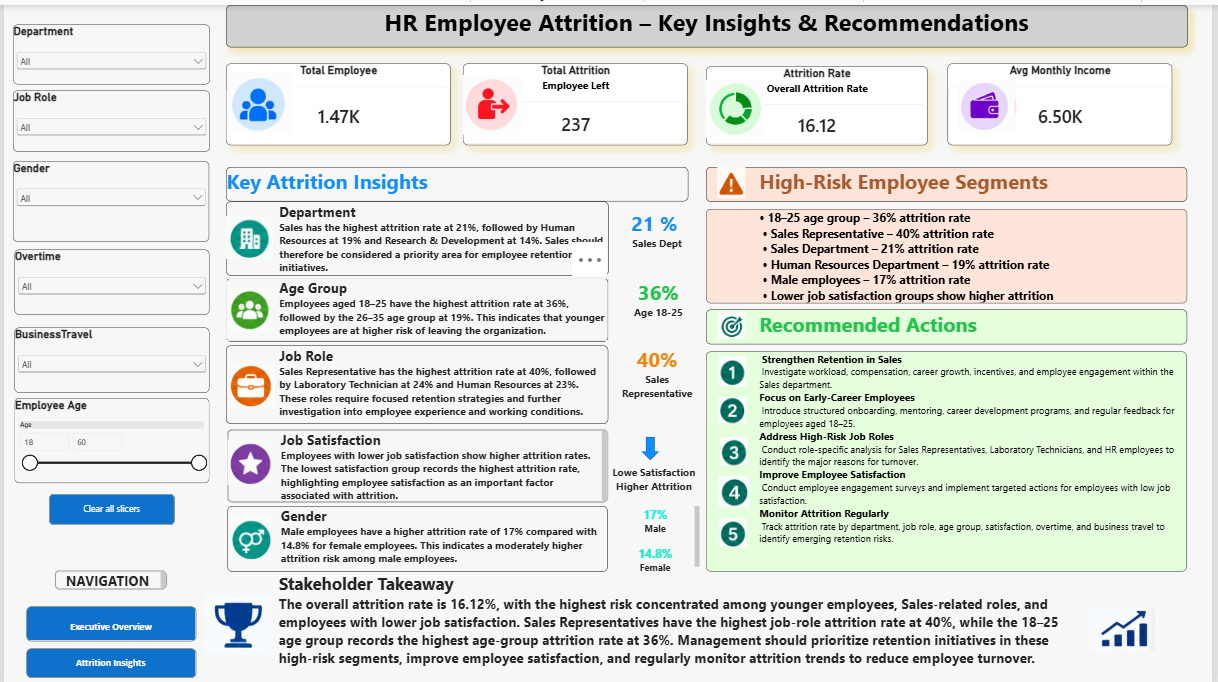

The page's visual inventory and layout, read from the dashboard file:
{"tool":"powerbi","page":{"name":"Key Insights & Recommendations","canvas":[1920,1080],"ordinal":3},"visuals":[{"type":"textbox","box":[352.5,0,1530,67.5],"z":0},{"type":"cardVisual","title":"Total Employee","fields":{"Data":["hr_analytics hr_attrition.Total_Employee"]},"box":[352.5,92.5,357.5,130],"z":1000},{"type":"cardVisual","title":"Total Attrition","fields":{"Data":["hr_analytics hr_attrition.Total Attrition"]},"box":[730,92.5,357.5,130],"z":2000},{"type":"cardVisual","title":"Attrition Rate ","fields":{"Data":["hr_analytics hr_attrition.Attrition_rate"]},"box":[1117.5,97.5,352.5,125],"z":3000},{"type":"cardVisual","title":"Avg Monthly Income","fields":{"Data":["hr_analytics hr_attrition.avg_onthly_income"]},"box":[1500,92.5,357.5,130],"z":4000},{"type":"slicer","title":"Department","fields":{"Values":["hr_analytics hr_attrition.Department"]},"box":[14,31,313,95],"z":5000},{"type":"slicer","title":"Job Role","fields":{"Values":["hr_analytics hr_attrition.JobRole"]},"box":[14,137,313,97],"z":6000},{"type":"slicer","title":"Gender","fields":{"Values":["hr_analytics hr_attrition.Gender"]},"box":[15,247,312.2,128.9],"z":7000},{"type":"slicer","title":"Overtime","fields":{"Values":["hr_analytics hr_attrition.OverTime"]},"box":[17,390,310,104],"z":8000},{"type":"slicer","title":"BusinessTravel","fields":{"Values":["hr_analytics hr_attrition.BusinessTravel"]},"box":[17,513,310,104],"z":9000},{"type":"slicer","title":"Employee Age","fields":{"Values":["hr_analytics hr_attrition.Age"]},"box":[17,626,310,135],"z":10000},{"type":"actionButton","box":[71.7,777.5,200,49.2],"z":11000},{"type":"image","box":[352.5,107.5,107.4,97.8],"z":12000},{"type":"image","box":[730,99.2,93.1,116.9],"z":13000},{"type":"image","box":[1117.5,110,92.5,110],"z":14000},{"type":"image","box":[1517.5,117.5,92.5,87.5],"z":15000},{"type":"textbox","box":[352.5,902.5,1352.5,177.5],"z":16000},{"type":"textbox","box":[352.2,257.8,735.6,54.4],"z":17000},{"type":"textbox","box":[352.2,312.2,608.9,117.8],"z":18000},{"type":"textbox","box":[353.3,434.4,607.8,101.1],"z":19000},{"type":"textbox","box":[352.2,541.1,607.8,124.4],"z":20000},{"type":"textbox","box":[355.6,674.4,604.4,115.6],"z":21000},{"type":"textbox","box":[355.6,797.8,604.4,104.4],"z":22000},{"type":"textbox","box":[1117.5,257.5,765,55],"z":23000},{"type":"textbox","box":[1117.5,325,765,150],"z":24000},{"type":"textbox","box":[1117.5,485,765,55],"z":25000},{"type":"textbox","box":[1117.8,552.2,764.4,350],"z":26000},{"type":"image","box":[352.5,325,75,90],"z":27000},{"type":"image","box":[355,445,70,77.5],"z":28000},{"type":"image","box":[355,557.5,75,92.5],"z":29000},{"type":"image","box":[355,677.5,70,100],"z":30000},{"type":"image","box":[357.5,800,70,100],"z":31000},{"type":"image","box":[320,920,105,127.5],"z":32000},{"type":"image","box":[1725,937.5,105,110],"z":33000},{"type":"image","box":[1127.5,257.5,56.7,50],"z":34000},{"type":"image","box":[1131.2,557.5,56.2,48.8],"z":35000},{"type":"image","box":[1131.2,623.8,56.2,42.5],"z":36000},{"type":"image","box":[1127.5,687.5,65,45],"z":37000},{"type":"image","box":[1135,750,51.2,50],"z":38000},{"type":"image","box":[1133.8,815,52.5,47.5],"z":39000},{"type":"image","box":[1135.6,483.3,43.3,50],"z":40000},{"type":"textbox","box":[970,325.6,135.6,104.4],"z":41000},{"type":"textbox","box":[975.6,434.4,130,98.9],"z":42000},{"type":"textbox","box":[970,541.1,135.6,124.4],"z":43000},{"type":"textbox","box":[970,797.8,135.6,102.2],"z":44000},{"type":"shape","box":[1015,688,28,37],"z":45000},{"type":"textbox","box":[961.1,733.3,144.4,54.4],"z":46000},{"type":"actionButton","box":[36.7,1024.2,270,46.7],"z":47000},{"type":"actionButton","box":[36.7,956.7,270,55],"z":48000},{"type":"textbox","box":[67.5,979.2,207.5,25],"z":49000},{"type":"textbox","box":[81.7,1035.8,177.5,23.3],"z":50000},{"type":"textbox","box":[81.7,900,177.5,30],"z":51000}]}

Visuals, with their boxes in screenshot pixels (x1, y1, x2, y2), scaled from the page's 1920x1080 canvas onto the 1218x682 screenshot:
textbox: crop(224, 0, 1194, 43)
"Total Employee" cardVisual: crop(224, 58, 450, 141)
"Total Attrition" cardVisual: crop(463, 58, 690, 141)
"Attrition Rate " cardVisual: crop(709, 62, 933, 141)
"Avg Monthly Income" cardVisual: crop(952, 58, 1178, 141)
"Department" slicer: crop(9, 20, 207, 80)
"Job Role" slicer: crop(9, 87, 207, 148)
"Gender" slicer: crop(10, 156, 208, 237)
"Overtime" slicer: crop(11, 246, 207, 312)
"BusinessTravel" slicer: crop(11, 324, 207, 390)
"Employee Age" slicer: crop(11, 395, 207, 481)
actionButton: crop(45, 491, 172, 522)
image: crop(224, 68, 292, 130)
image: crop(463, 63, 522, 136)
image: crop(709, 69, 768, 139)
image: crop(963, 74, 1021, 129)
textbox: crop(224, 570, 1082, 681)
textbox: crop(223, 163, 690, 197)
textbox: crop(223, 197, 610, 272)
textbox: crop(224, 274, 610, 338)
textbox: crop(223, 342, 609, 420)
textbox: crop(226, 426, 609, 499)
textbox: crop(226, 504, 609, 570)
textbox: crop(709, 163, 1194, 197)
textbox: crop(709, 205, 1194, 300)
textbox: crop(709, 306, 1194, 341)
textbox: crop(709, 349, 1194, 570)
image: crop(224, 205, 271, 262)
image: crop(225, 281, 270, 330)
image: crop(225, 352, 273, 410)
image: crop(225, 428, 270, 491)
image: crop(227, 505, 271, 568)
image: crop(203, 581, 270, 661)
image: crop(1094, 592, 1161, 661)
image: crop(715, 163, 751, 194)
image: crop(718, 352, 753, 383)
image: crop(718, 394, 753, 421)
image: crop(715, 434, 756, 463)
image: crop(720, 474, 752, 505)
image: crop(719, 515, 753, 545)
image: crop(720, 305, 748, 337)
textbox: crop(615, 206, 701, 272)
textbox: crop(619, 274, 701, 337)
textbox: crop(615, 342, 701, 420)
textbox: crop(615, 504, 701, 568)
shape: crop(644, 434, 662, 458)
textbox: crop(610, 463, 701, 497)
actionButton: crop(23, 647, 195, 676)
actionButton: crop(23, 604, 195, 639)
textbox: crop(43, 618, 174, 634)
textbox: crop(52, 654, 164, 669)
textbox: crop(52, 568, 164, 587)
